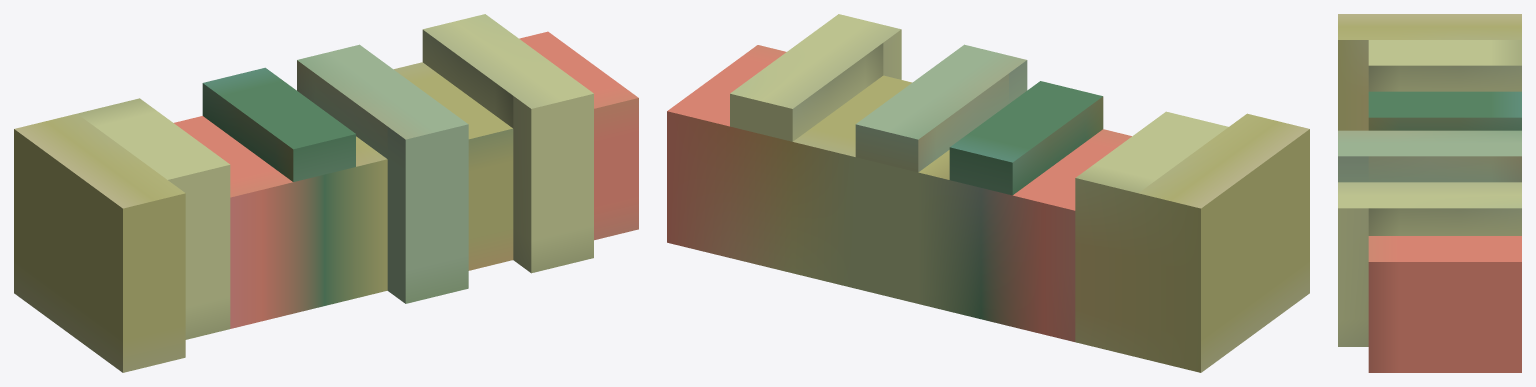
The model's file is Book9Pieces_00.fbx.
3 views of the same model, side by side, from view 1: azimuth 30°, elevation 25°; view 2: azimuth 150°, elevation 25°; view 3: azimuth 270°, elevation 25° (orthographic). The views are drawn at different scales.
Visible parts, largest first — view 1: Book9Pieces_00; view 2: Book9Pieces_00; view 3: Book9Pieces_00.
Part boxes in pixels (bbox=[...]): Book9Pieces_00: bbox=[14, 14, 638, 372]; Book9Pieces_00: bbox=[667, 14, 1309, 372]; Book9Pieces_00: bbox=[1338, 14, 1521, 372].
Size of the model in its own units: 85 by 30 by 25.
Materials: 1 (1 with a texture image).
